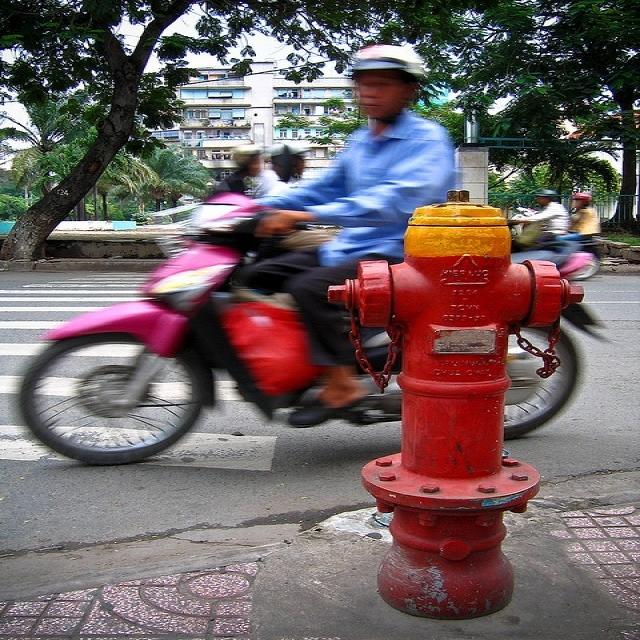fire_hydrant: (324, 204, 600, 613)
